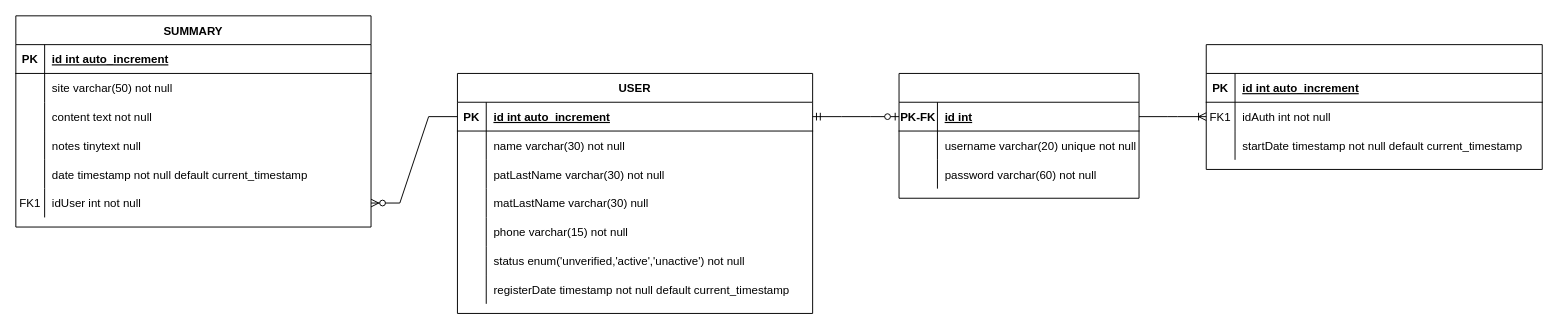
The diagram is 1558 pixels wide and 329 high, and some of its shapes have lost their labels. The box of each missing label's shape, as (x1, y1, x2, y2) in pixels:
AUTH: (898, 72, 1139, 198)
SESSION: (1205, 44, 1542, 169)
